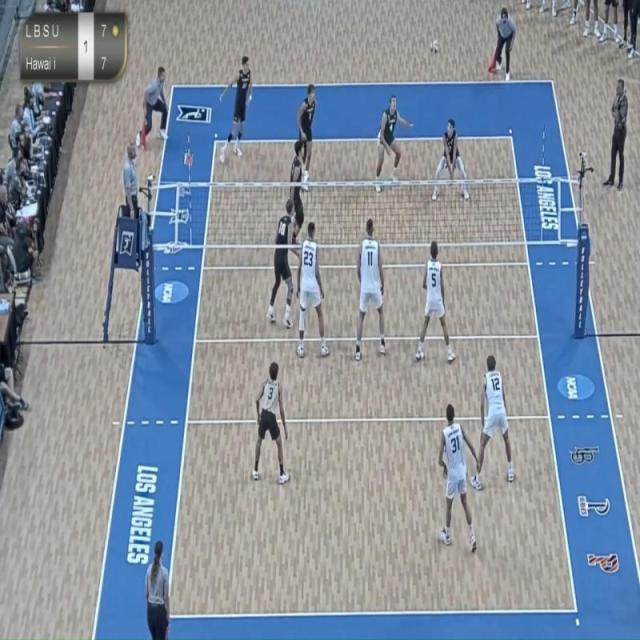volleyball: (428, 34, 442, 60)
